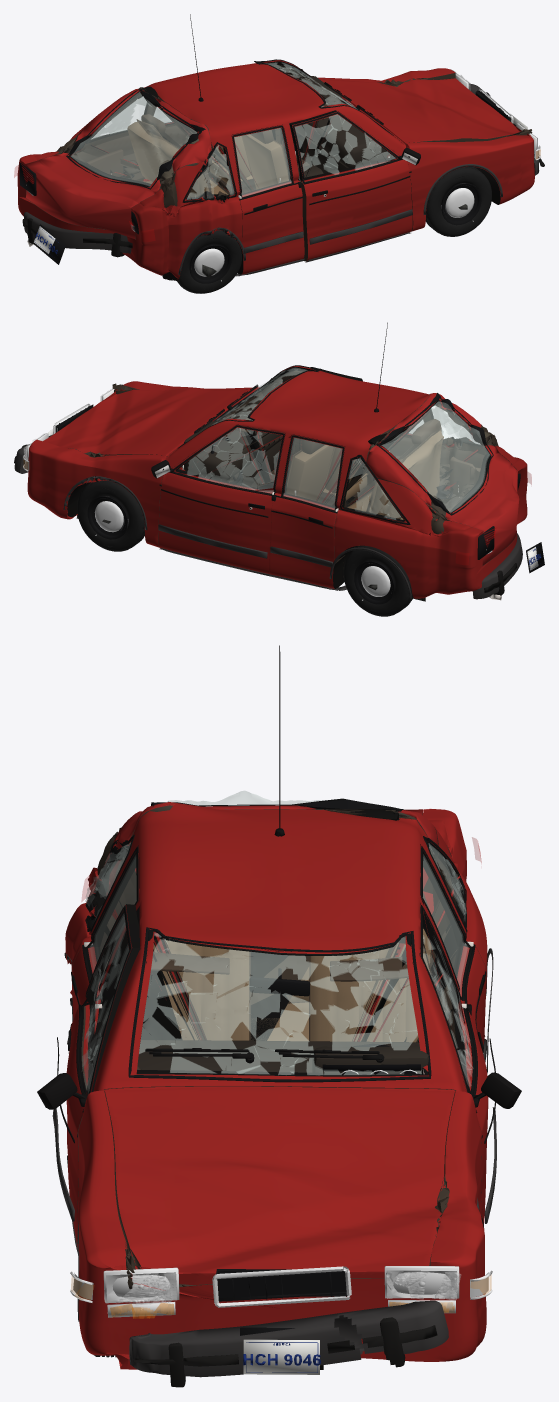
The model's file is hatchback85_rear_corner_R_d1_lod1.glb.
3 renders of one model, top to bottom at view 1: azimuth 30°, elevation 25°; view 2: azimuth 150°, elevation 25°; view 3: azimuth 270°, elevation 25°, orthographic. The views are drawn at different scales.
Parts seen in each view (by area): view 1: Body, Interior, Hatch, Door_FR, Hood, Glass_Hatch, Door_RR, Wheel_FR_mesh, Glass_RR, Glass, Wheel_RR_mesh, Glass_FR (+6 smaller); view 2: Body, Interior, Door_FL, Hood, Glass_Hatch, Hatch, Door_RL, Wheel_FL_mesh, Wheel_RL_mesh, Glass_FL, Glass, Glass_RL (+7 smaller); view 3: Body, Hood, Glass, Interior, Ends, Bumper_F, Door_FR, Trim, Door_FL, Trim_FR, Trim_FL, Lamps_Head (+9 smaller).
Part boxes in pixels (x1=…): Body: x1=17, y1=60, x2=534, y2=280; Interior: x1=87, y1=76, x2=388, y2=197; Hatch: x1=25, y1=88, x2=212, y2=239; Door_FR: x1=289, y1=110, x2=412, y2=261; Hood: x1=320, y1=78, x2=521, y2=144; Glass_Hatch: x1=66, y1=88, x2=205, y2=189; Door_RR: x1=231, y1=124, x2=304, y2=274; Wheel_FR_mesh: x1=425, y1=166, x2=491, y2=236; Glass_RR: x1=232, y1=128, x2=293, y2=197; Glass: x1=92, y1=59, x2=393, y2=202; Wheel_RR_mesh: x1=177, y1=230, x2=241, y2=293; Glass_FR: x1=292, y1=111, x2=396, y2=183; Body: x1=27, y1=366, x2=527, y2=598; Interior: x1=183, y1=396, x2=480, y2=545; Door_FL: x1=158, y1=424, x2=285, y2=574; Hood: x1=43, y1=388, x2=255, y2=456; Glass_Hatch: x1=376, y1=393, x2=493, y2=515; Hatch: x1=366, y1=393, x2=519, y2=565; Door_RL: x1=269, y1=434, x2=345, y2=588; Wheel_FL_mesh: x1=77, y1=480, x2=144, y2=551; Wheel_RL_mesh: x1=343, y1=545, x2=413, y2=616; Glass_FL: x1=175, y1=425, x2=284, y2=494; Glass: x1=177, y1=365, x2=480, y2=522; Glass_RL: x1=281, y1=436, x2=344, y2=510; Body: x1=65, y1=802, x2=487, y2=1369; Hood: x1=104, y1=1086, x2=455, y2=1284; Glass: x1=85, y1=837, x2=466, y2=1082; Interior: x1=133, y1=893, x2=432, y2=1074; Ends: x1=70, y1=1266, x2=492, y2=1374; Bumper_F: x1=129, y1=1300, x2=448, y2=1387; Door_FR: x1=66, y1=904, x2=140, y2=1245; Trim: x1=64, y1=645, x2=493, y2=1321; Door_FL: x1=419, y1=903, x2=488, y2=1224; Trim_FR: x1=37, y1=905, x2=131, y2=1253; Trim_FL: x1=420, y1=905, x2=521, y2=1223; Lamps_Head: x1=116, y1=1271, x2=460, y2=1304.
Size of the model in its own units: 4.39 by 2.14 by 1.93.
Materials: 33 (5 with a texture image).
